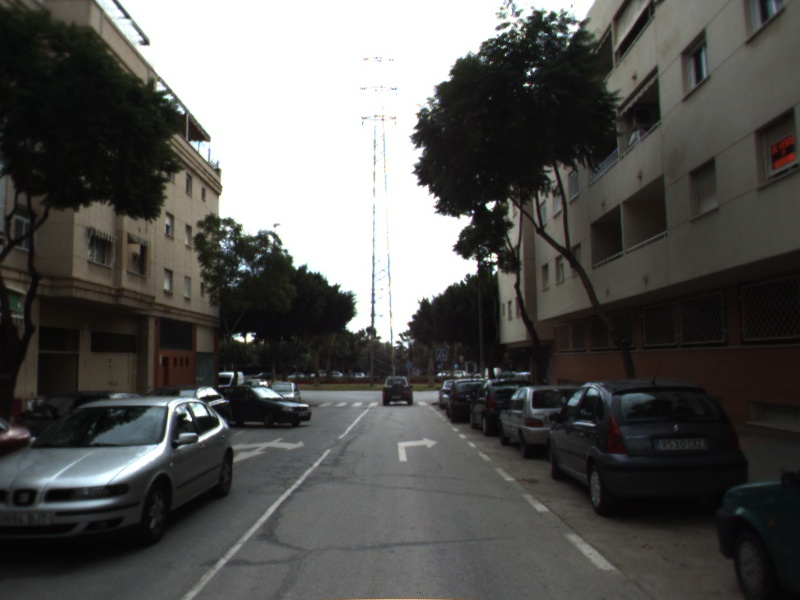RIGHT: (396, 436, 441, 463)
